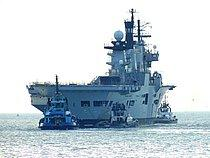MIL_Ship: (25, 7, 177, 125)
